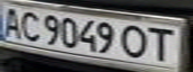0: (57, 16, 78, 48)
4: (78, 17, 100, 52)
9: (93, 19, 121, 55), (39, 12, 63, 46)
A: (0, 5, 27, 39)
C: (15, 9, 45, 42)
O: (118, 22, 151, 60)
T: (142, 25, 181, 61)
